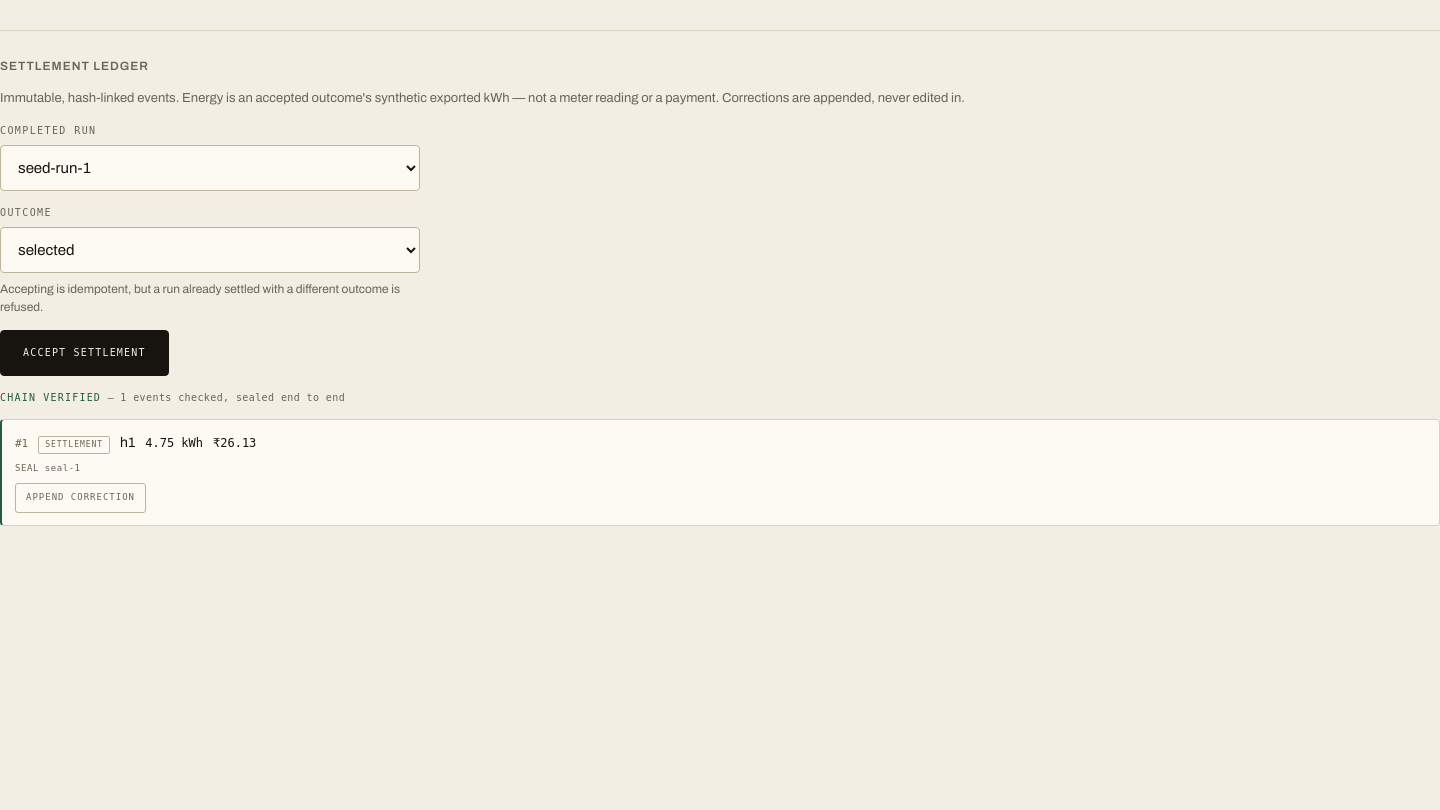
Test: LedgerPanel corrections › states that the target event is not modified
The image size is (1440, 810).
Click the button "APPEND CORRECTION" at (80, 498), box [15,483,146,512]
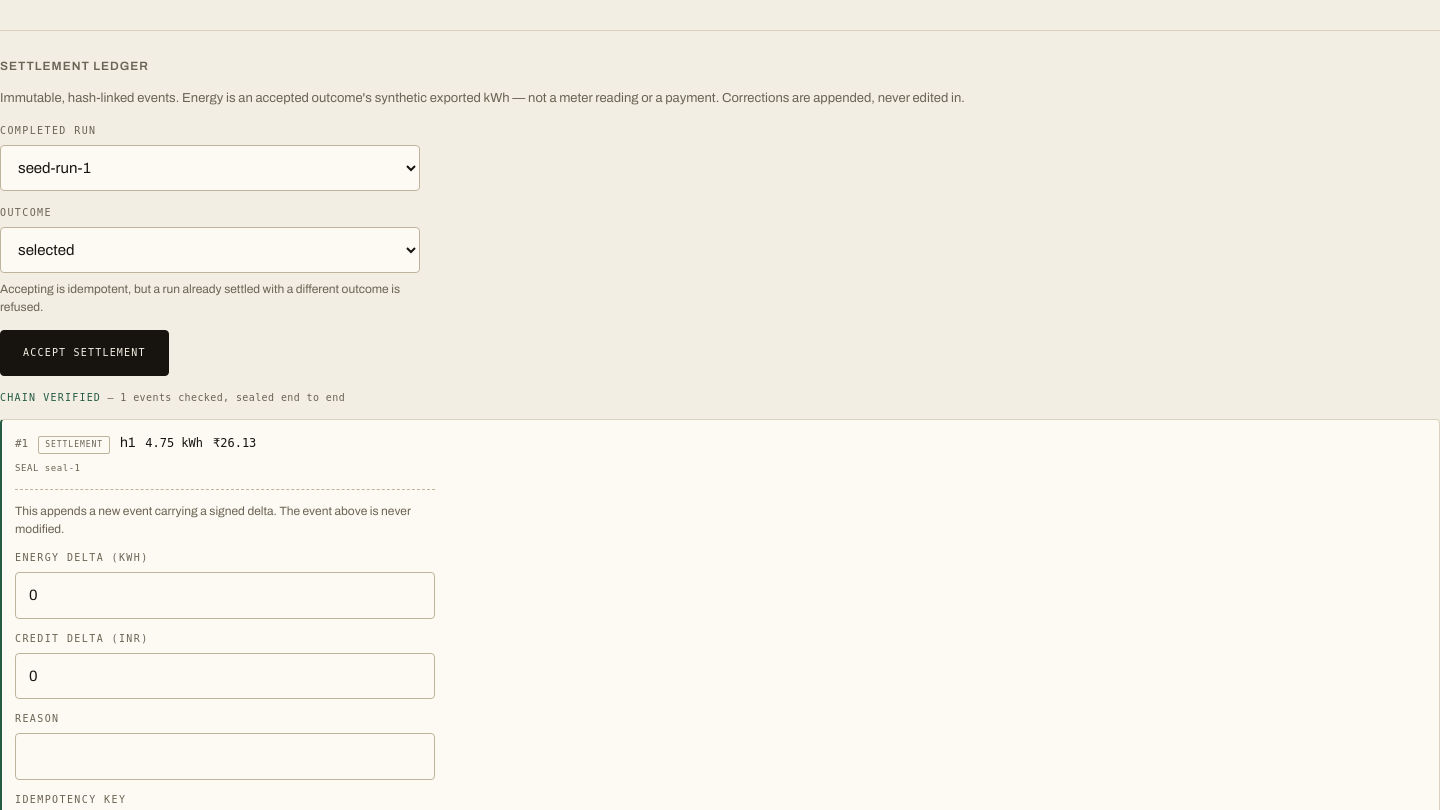
Now the text "never modified" is shown, box [15,504,411,536]
